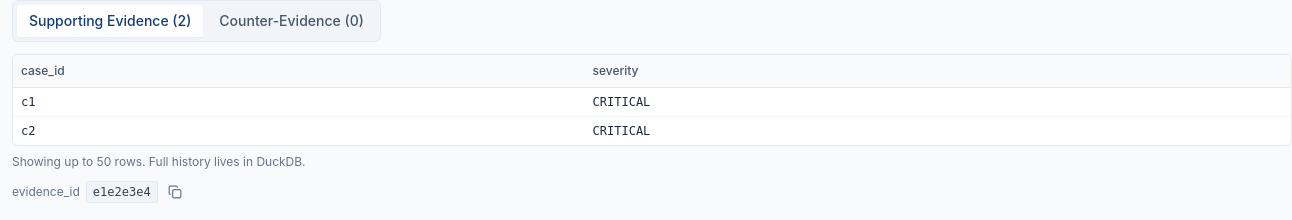
Scenario: EvidencePanel › counter tab exists even when counter rows are empty, with the reason
Click the tab "Counter-Evidence (0)" at (292, 21), box [207,5,376,37]
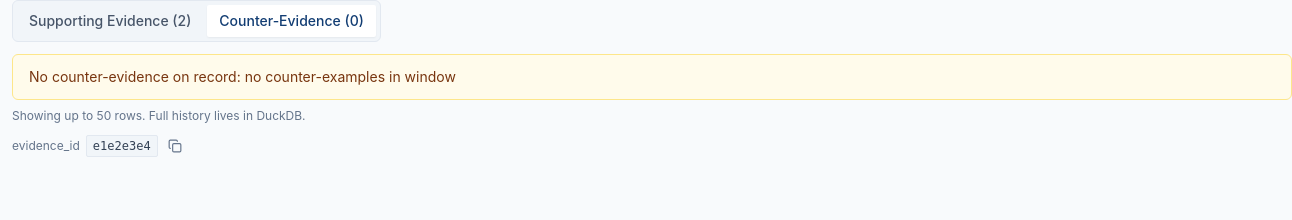
expect the text "No counter-evidence on record: no counter-examples in window" is shown: met, box [12,54,1291,100]
